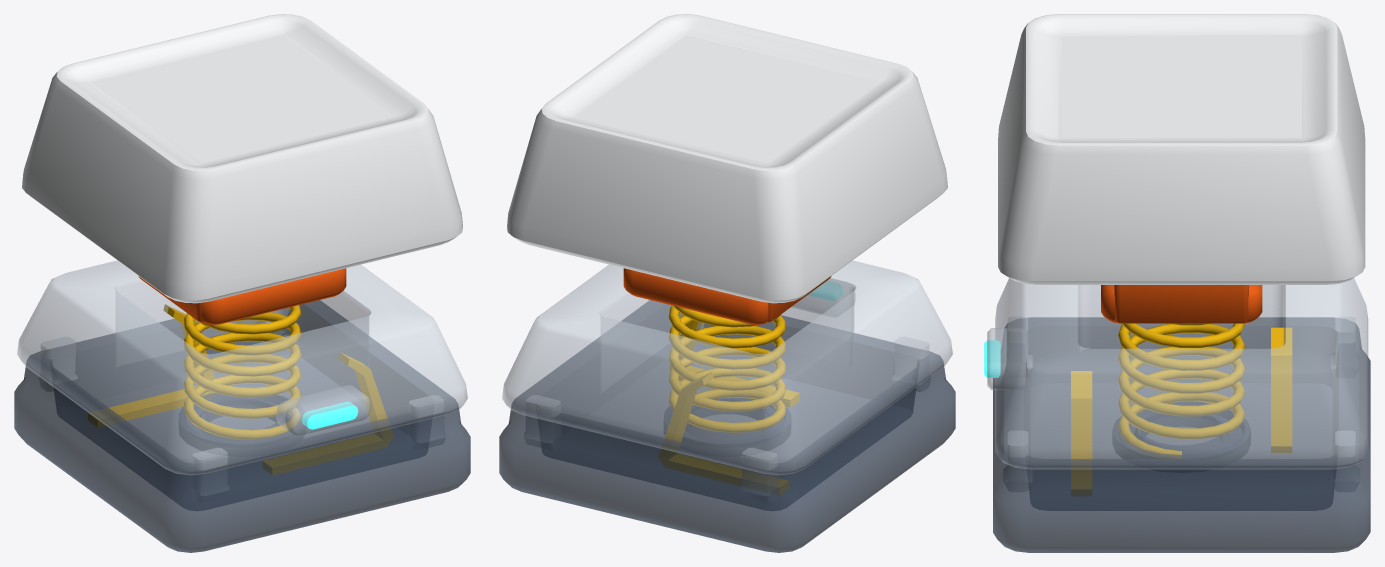
File: mech-key.glb
3 views of the same model, side by side, from view 1: azimuth 30°, elevation 25°; view 2: azimuth 150°, elevation 25°; view 3: azimuth 270°, elevation 25° (orthographic). The views are drawn at different scales.
Parts seen in each view (by area): view 1: SculptedKeycap, BottomHousing, TopHousing, ScreenSurface, CoilSpring, CrossStem, SpringSeat, ContactLeaf_2, LightPipe, ContactLeaf_1, SnapHook_-1_-1, RGBLed (+2 smaller); view 2: SculptedKeycap, BottomHousing, TopHousing, ScreenSurface, CoilSpring, CrossStem, SpringSeat, ContactLeaf_1, LightPipe, SnapHook_-1_1, ContactLeaf_2, SnapHook_-1_-1 (+1 smaller); view 3: SculptedKeycap, BottomHousing, TopHousing, ScreenSurface, CoilSpring, SliderRail_1, SpringSeat, ContactLeaf_1, ContactLeaf_2, LightPipe, CrossStem, SnapHook_-1_-1 (+3 smaller).
Part boxes in pixels (bbox=[...]): SculptedKeycap: bbox=[22, 14, 462, 303]; BottomHousing: bbox=[14, 300, 470, 552]; TopHousing: bbox=[17, 260, 467, 475]; ScreenSurface: bbox=[90, 35, 394, 163]; CoilSpring: bbox=[183, 305, 300, 439]; CrossStem: bbox=[201, 268, 346, 324]; SpringSeat: bbox=[179, 393, 305, 455]; ContactLeaf_2: bbox=[263, 352, 393, 474]; LightPipe: bbox=[276, 385, 370, 436]; ContactLeaf_1: bbox=[88, 304, 214, 427]; SnapHook_-1_-1: bbox=[41, 337, 77, 382]; RGBLed: bbox=[302, 401, 358, 429]; SculptedKeycap: bbox=[507, 14, 947, 303]; BottomHousing: bbox=[499, 300, 955, 552]; TopHousing: bbox=[502, 260, 952, 475]; ScreenSurface: bbox=[575, 35, 879, 163]; CoilSpring: bbox=[669, 305, 786, 432]; CrossStem: bbox=[623, 268, 768, 324]; SpringSeat: bbox=[664, 398, 790, 455]; ContactLeaf_1: bbox=[658, 372, 788, 494]; LightPipe: bbox=[791, 278, 855, 314]; SnapHook_-1_1: bbox=[892, 337, 928, 382]; ContactLeaf_2: bbox=[669, 320, 799, 407]; SnapHook_-1_-1: bbox=[742, 448, 777, 484]; SculptedKeycap: bbox=[998, 14, 1365, 284]; BottomHousing: bbox=[993, 317, 1370, 552]; TopHousing: bbox=[995, 278, 1368, 469]; ScreenSurface: bbox=[1061, 36, 1301, 137]; CoilSpring: bbox=[1118, 323, 1245, 454]; SliderRail_1: bbox=[1114, 285, 1248, 323]; SpringSeat: bbox=[1112, 401, 1250, 472]; ContactLeaf_1: bbox=[1271, 327, 1292, 452]; ContactLeaf_2: bbox=[1071, 371, 1092, 495]; LightPipe: bbox=[987, 328, 1025, 390]; CrossStem: bbox=[1101, 285, 1262, 322]; SnapHook_-1_-1: bbox=[1331, 317, 1355, 374].
Size of the model in its own units: 1.85 by 2.15 by 1.89.
